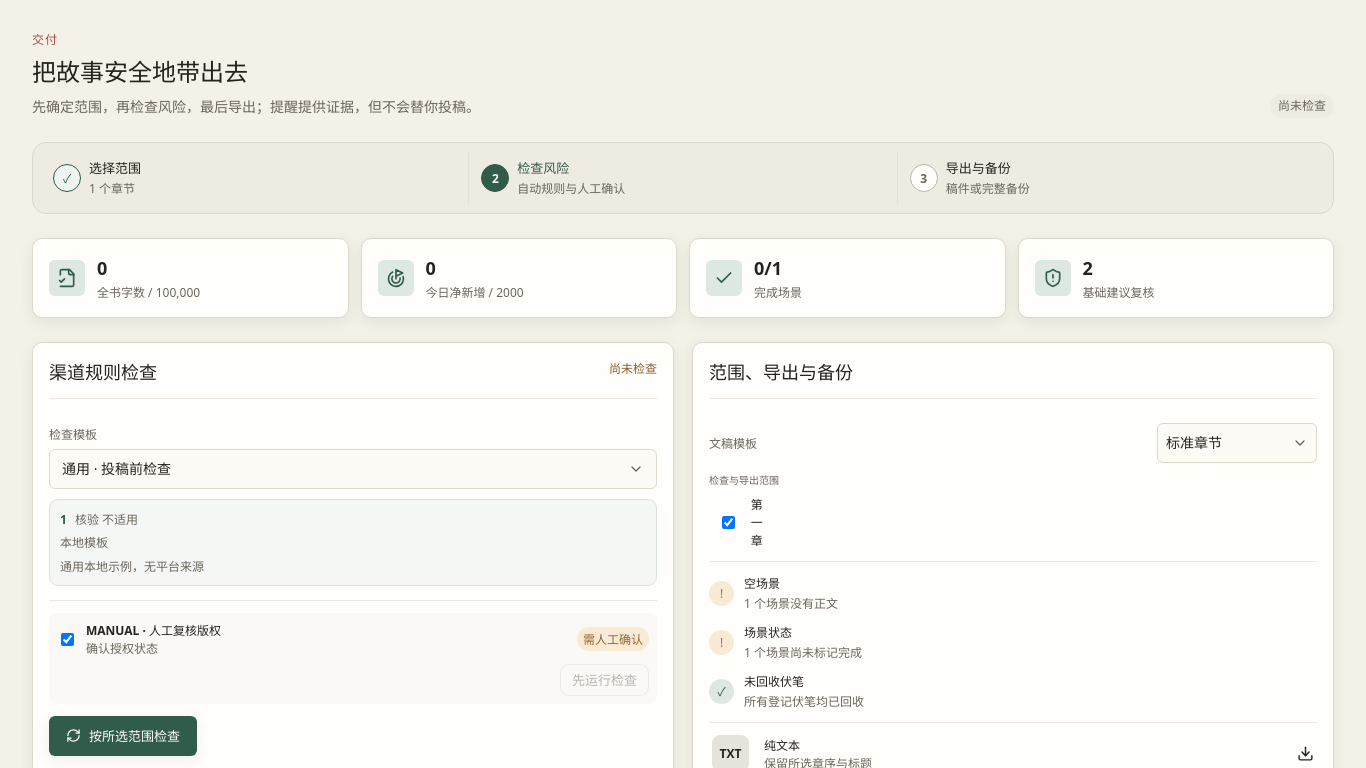
Test: DeliveryWorkspace › persists manual confirmation for the current check run before declaring completion
Expected: the button "先运行检查" is disabled, [560,664,649,696]
Click the button "按所选范围检查" at [123, 736], box [49,716,197,756]
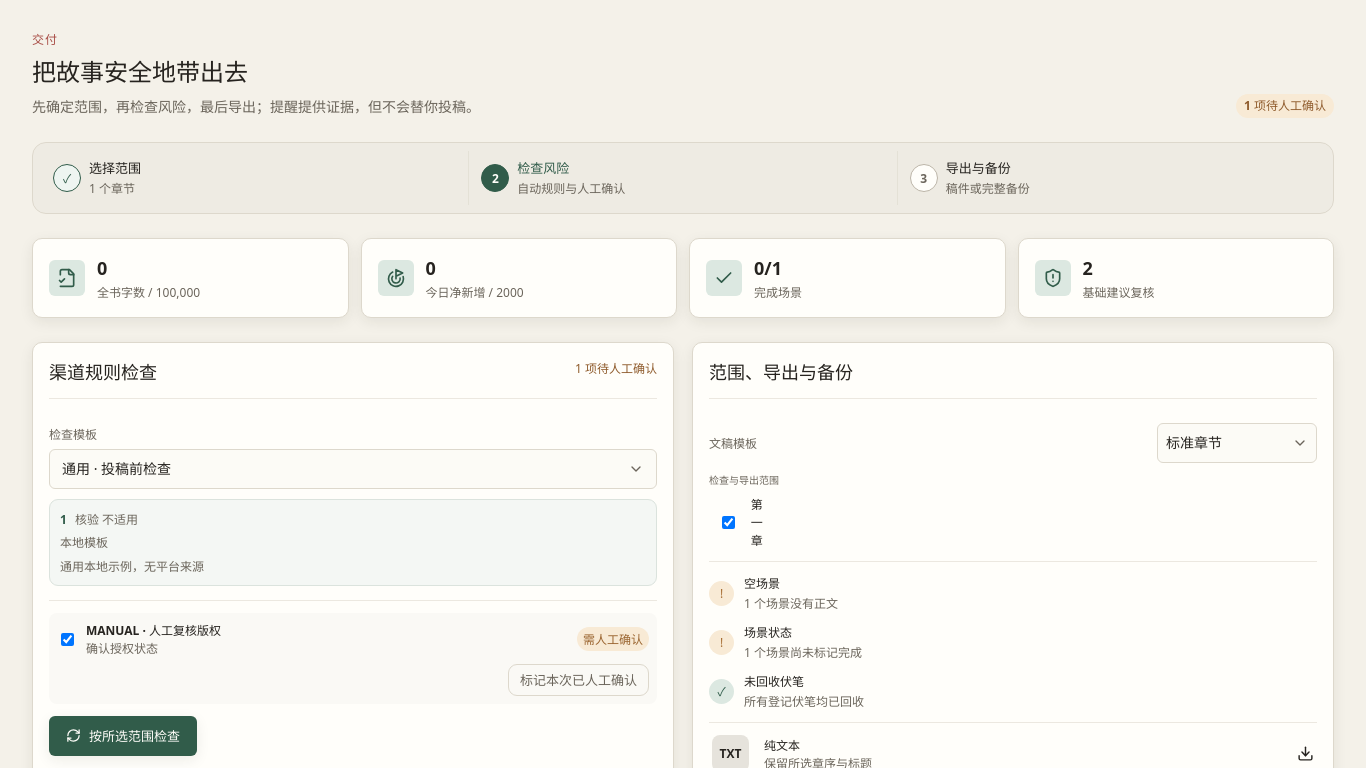
Click the button "标记本次已人工确认" at [578, 680], box [508,664,649,696]
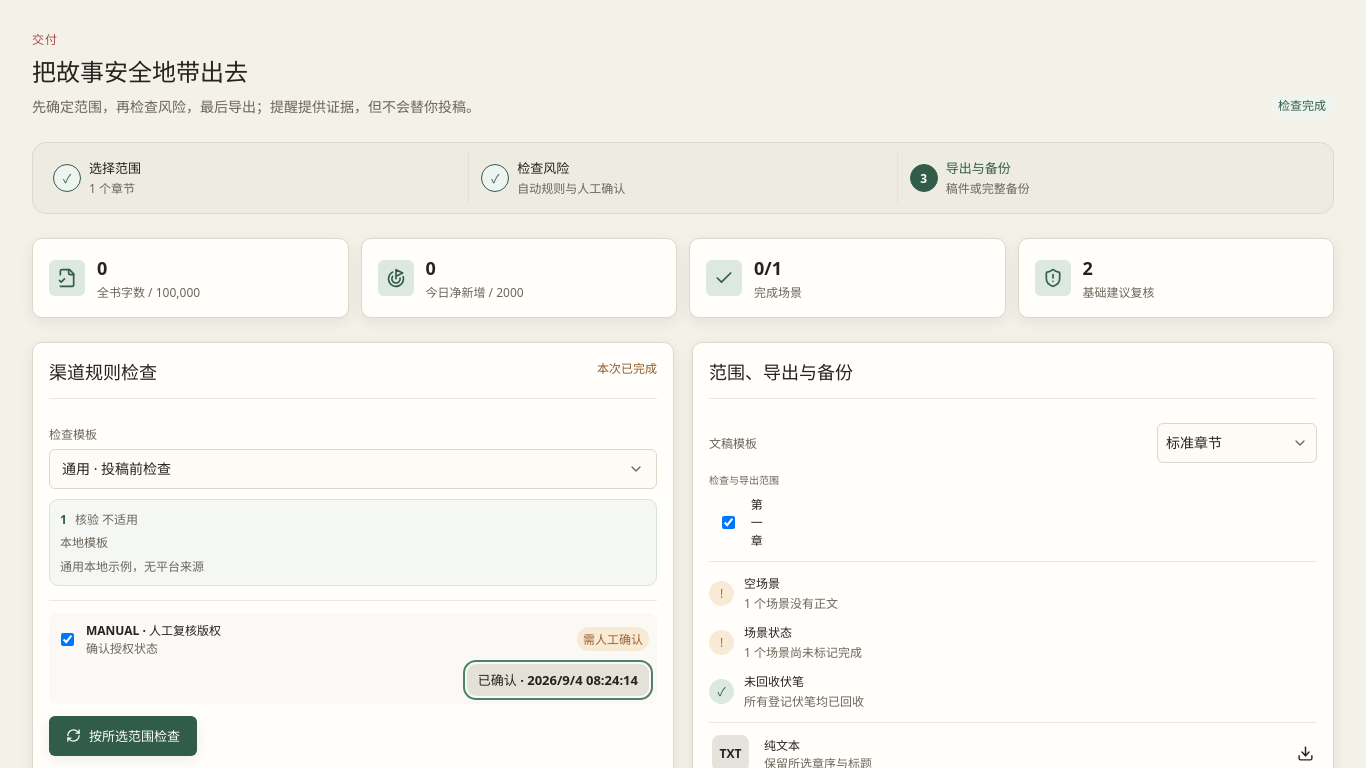
Expected: the text "检查完成" is shown, [1270,94,1334,118]
